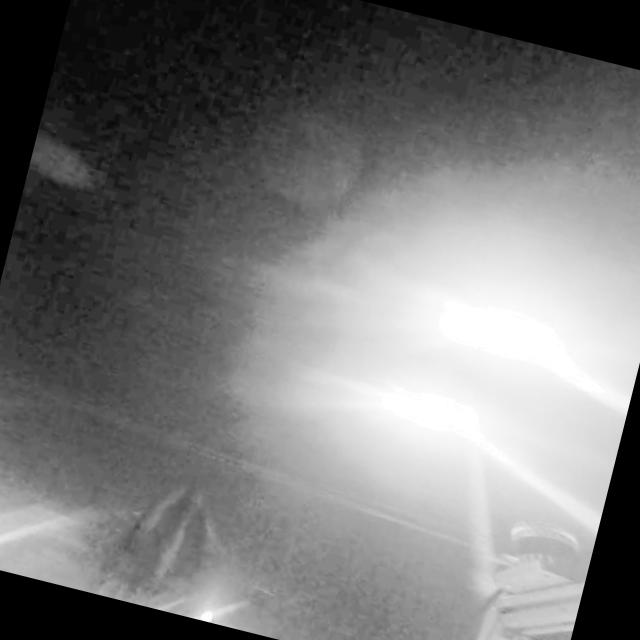Light: (421, 278, 579, 390), (388, 379, 488, 454)
